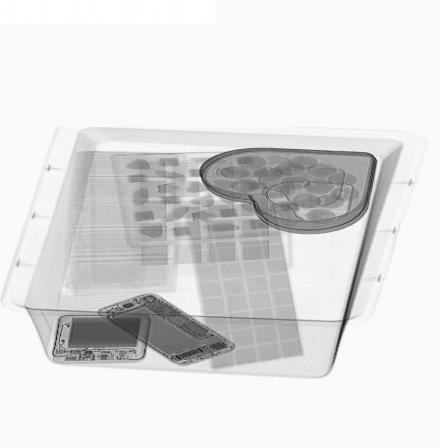Powerbank: (52, 314, 151, 364)
